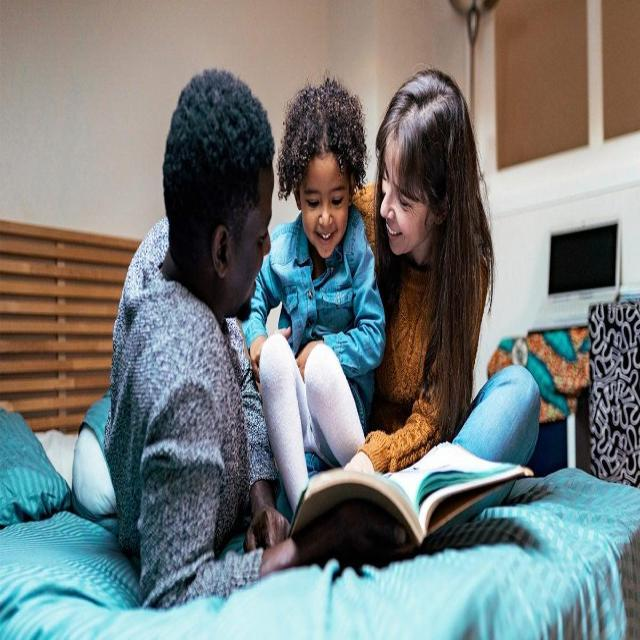child: (260, 72, 384, 497)
